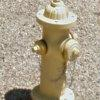Hydrant: (26, 0, 85, 100)
